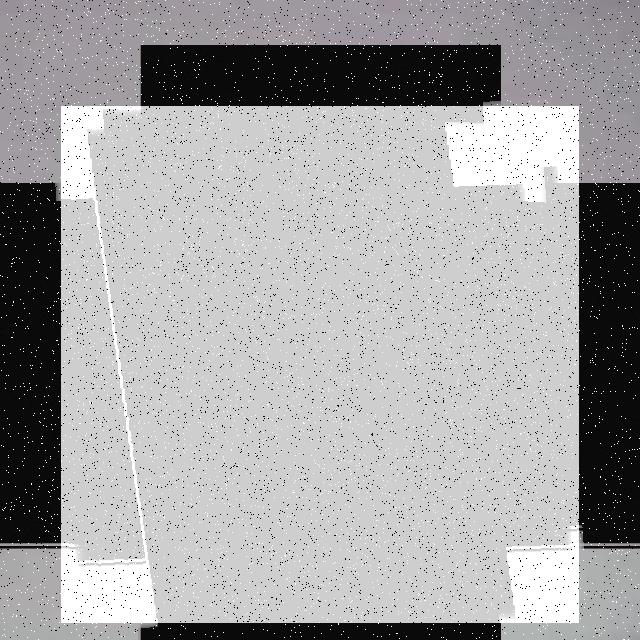dua ribu rupiah: (61, 106, 579, 623)
